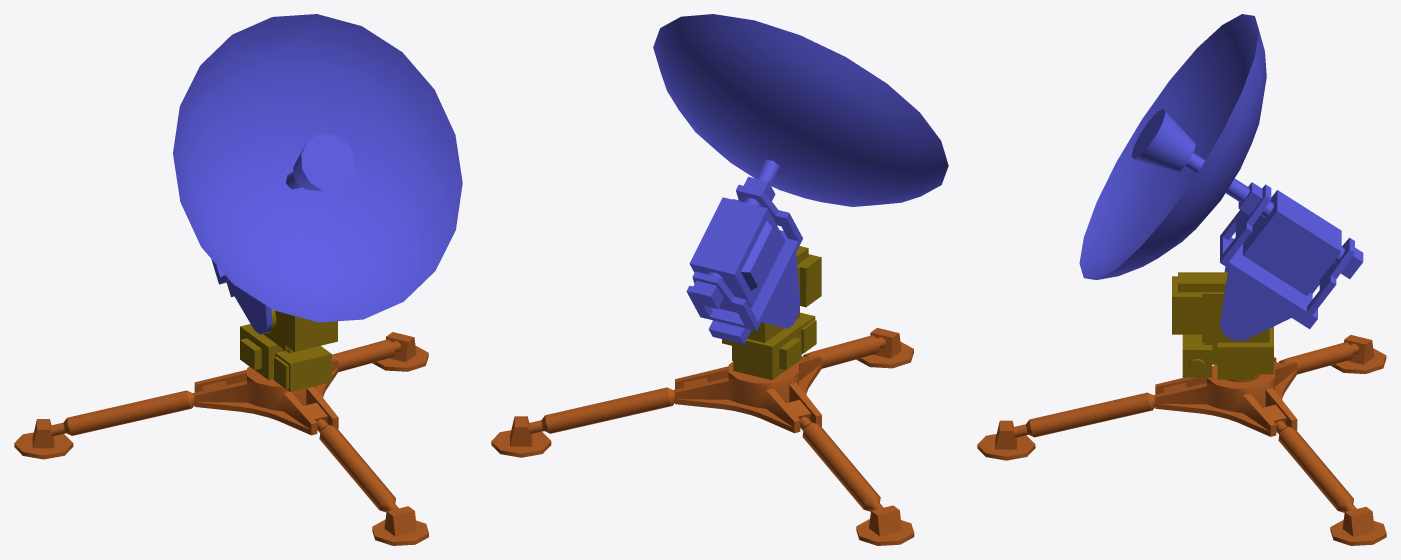
File: ANTENA_0.8M.obj
The picture shows the model from 3 angles, left to right: view 1: azimuth 30°, elevation 25°; view 2: azimuth 150°, elevation 25°; view 3: azimuth 270°, elevation 25°; orthographic projection. The views are drawn at different scales.
Visible parts, largest first — view 1: 0_8_ANTENA_03, 0_8_ANTENA_01, 0_8_ANTENA_02; view 2: 0_8_ANTENA_03, 0_8_ANTENA_01, 0_8_ANTENA_02; view 3: 0_8_ANTENA_03, 0_8_ANTENA_01, 0_8_ANTENA_02.
Part boxes in pixels (x1=…): 0_8_ANTENA_03: x1=173, y1=14, x2=462, y2=334; 0_8_ANTENA_01: x1=14, y1=332, x2=428, y2=545; 0_8_ANTENA_02: x1=240, y1=309, x2=337, y2=391; 0_8_ANTENA_03: x1=653, y1=14, x2=948, y2=344; 0_8_ANTENA_01: x1=491, y1=327, x2=914, y2=545; 0_8_ANTENA_02: x1=722, y1=246, x2=821, y2=380; 0_8_ANTENA_03: x1=1079, y1=14, x2=1363, y2=340; 0_8_ANTENA_01: x1=977, y1=335, x2=1386, y2=545; 0_8_ANTENA_02: x1=1172, y1=272, x2=1273, y2=379.
Bounding box in the file's own units: 91.76 × 91.39 × 81.2.
